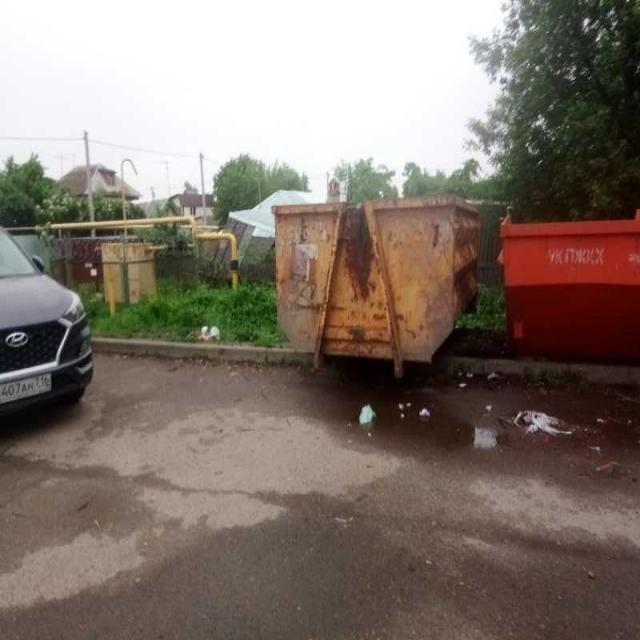Dumpster: (276, 202, 478, 361), (505, 217, 639, 357)
